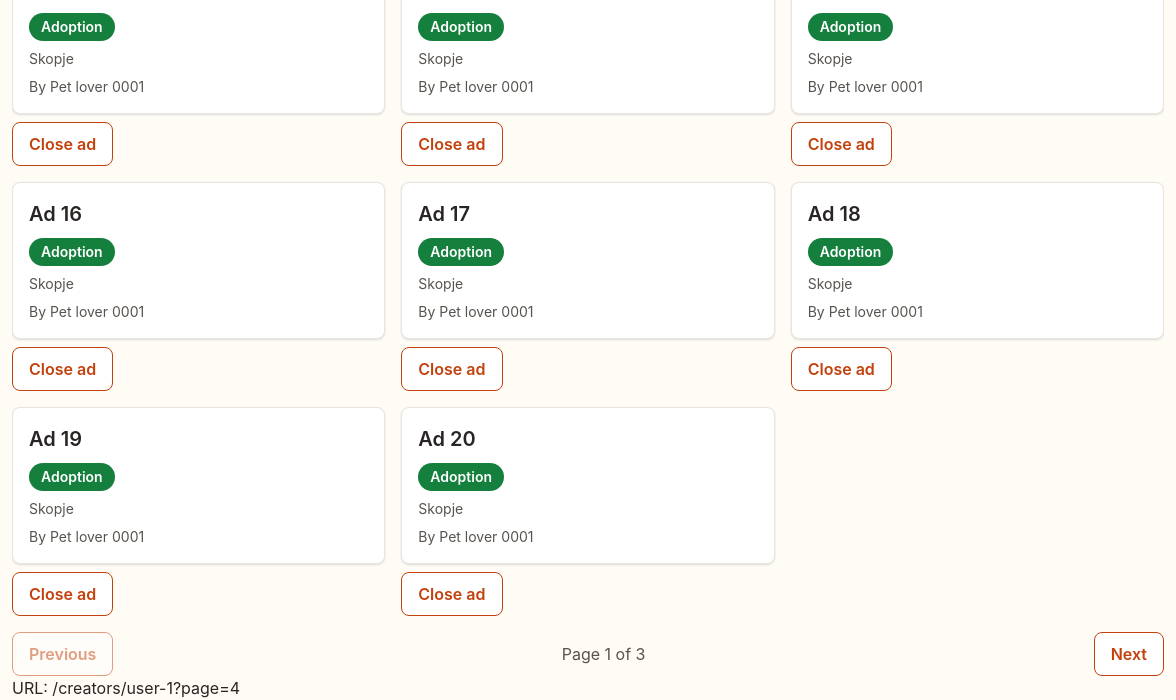
Test: MyAdsTab › requests page 2, shows its ads and sets myAdsPage in the URL, keeping other keys, on Next
The image size is (1176, 700).
(page scrolled)
Click the button "Next": (1129, 654) [1094,632,1164,676]
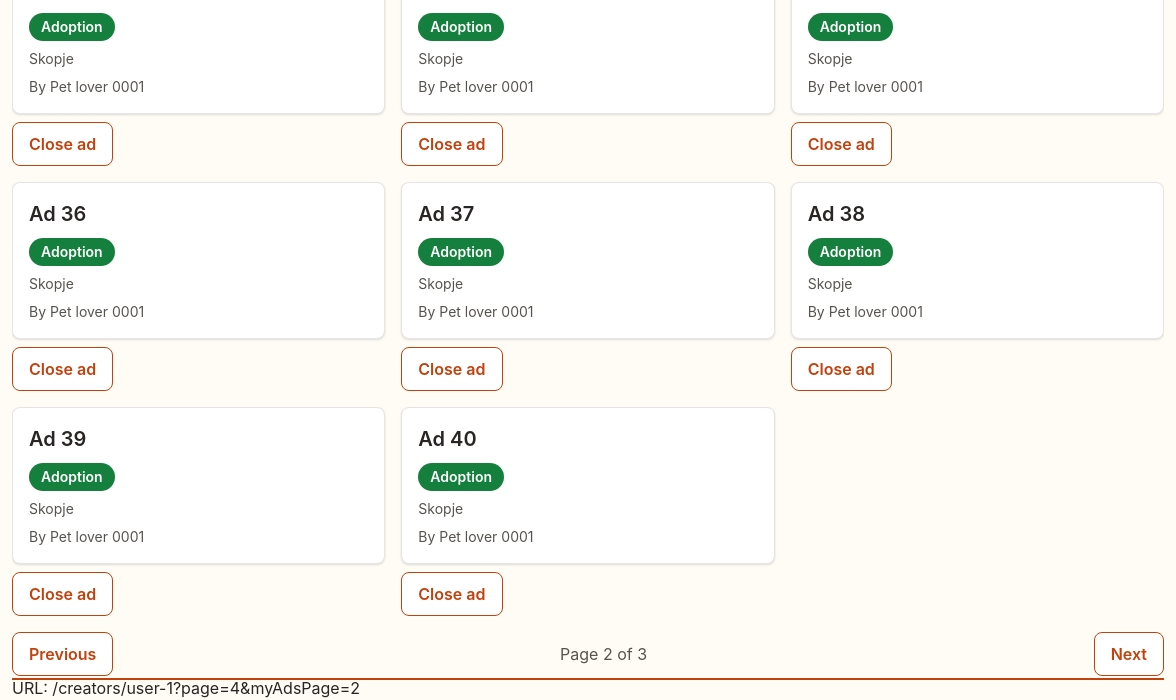
Expected: the text "URL: /creators/user-1?page=4&myAdsPage=2" is shown, [12,678,360,698]
